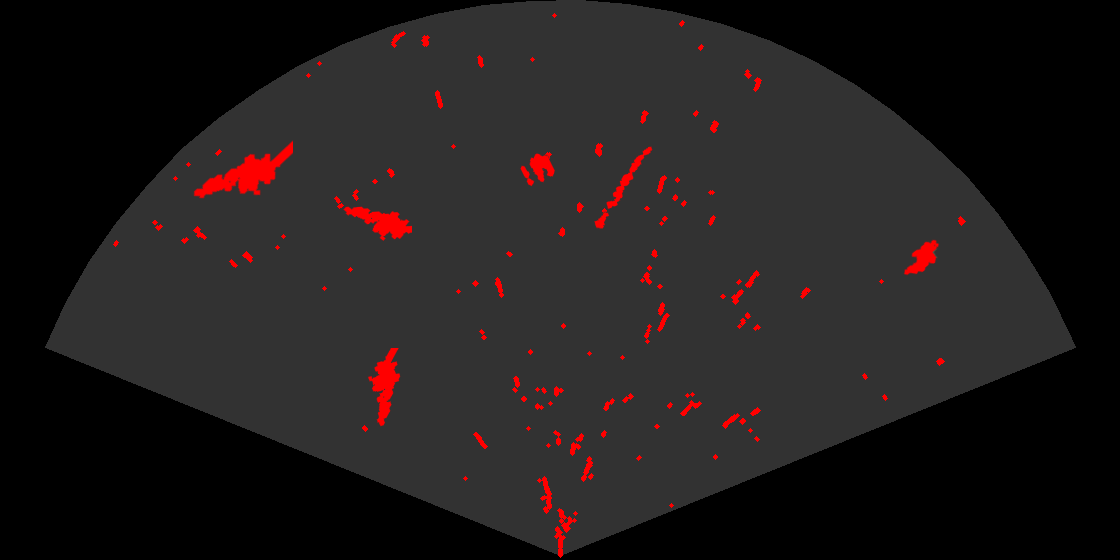AUV: (902, 238, 941, 277)
ball: (519, 152, 556, 188)
chain: (593, 145, 654, 231)
frogman: (192, 139, 293, 200), (366, 348, 402, 428), (342, 205, 412, 242)
